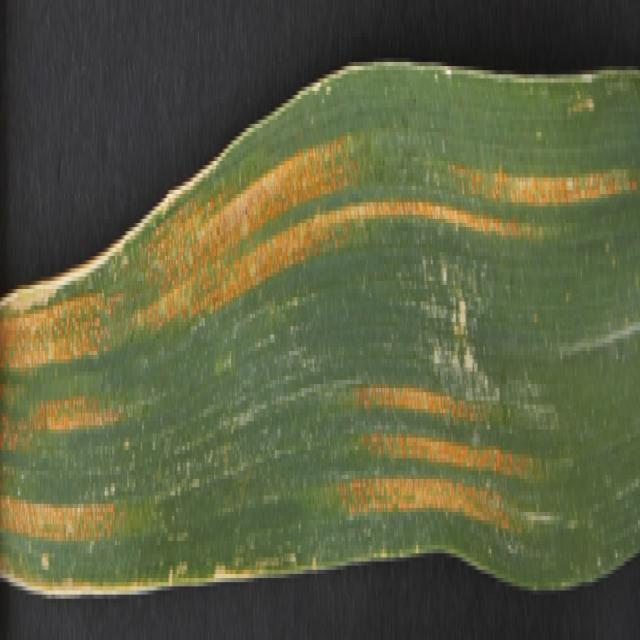leaf rust: (0, 99, 640, 602)
